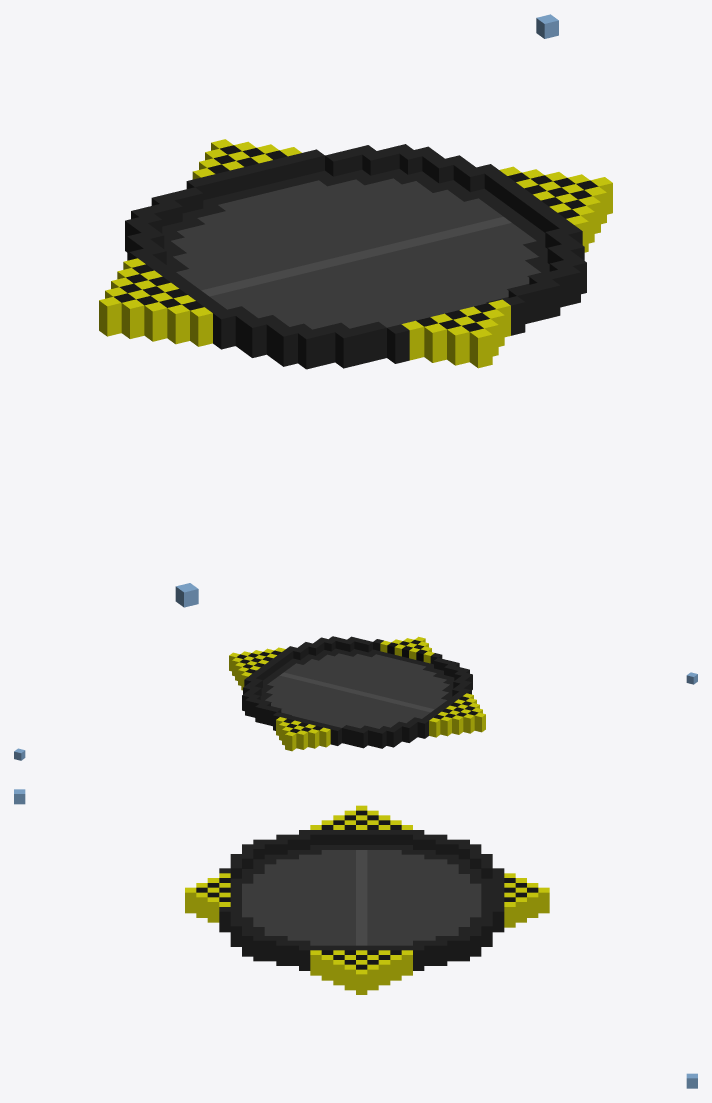
File: silo.glb
3 renders of one model, top to bottom at view 1: azimuth 30°, elevation 25°; view 2: azimuth 150°, elevation 25°; view 3: azimuth 270°, elevation 25°, orthographic. The views are drawn at different scales.
Visible parts, largest first — view 1: silo; view 2: silo; view 3: silo.
Boxes of the visible parts, <box> form: silo: <box>99,14,612,607</box>; silo: <box>14,636,697,760</box>; silo: <box>14,789,697,1088</box>.
Size of the model in its own units: 6 by 0.5 by 6.
